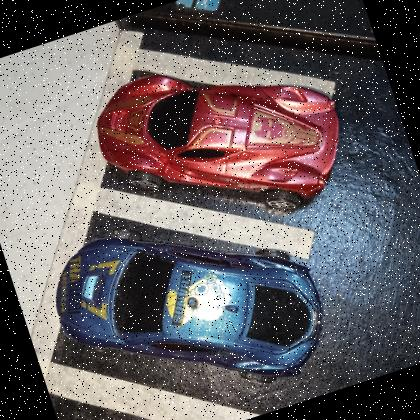Car: (55, 236, 324, 377), (96, 74, 339, 199)
